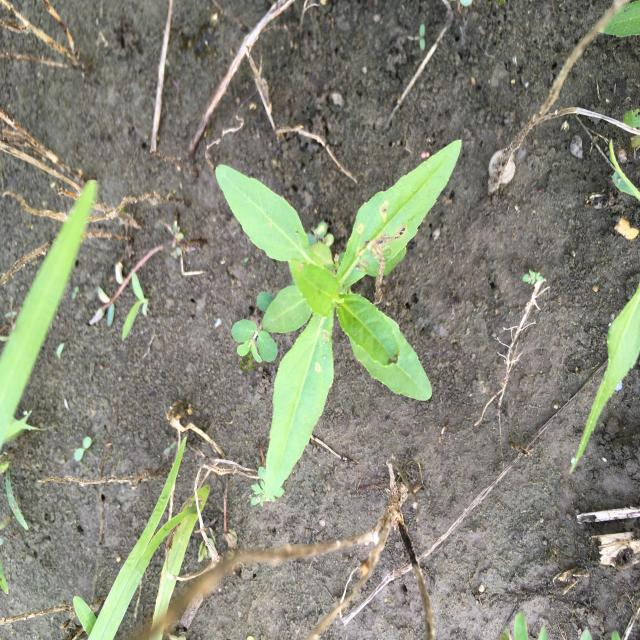Eclipta: (214, 137, 463, 503)
